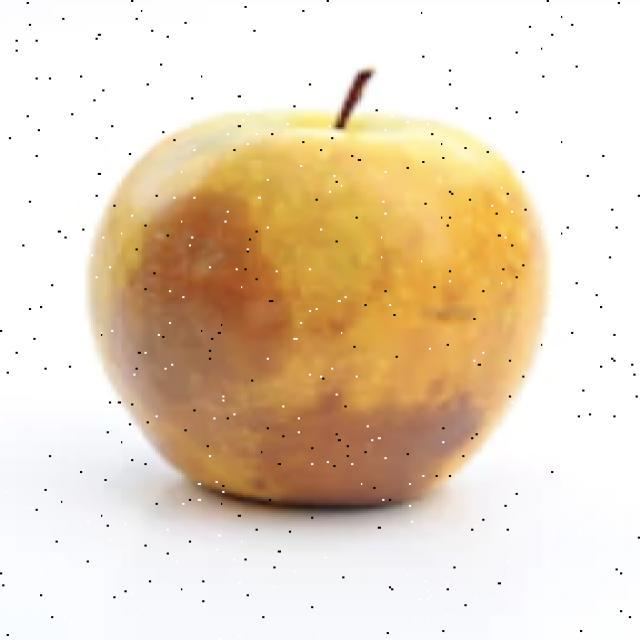Rotten: (86, 125, 506, 507)
